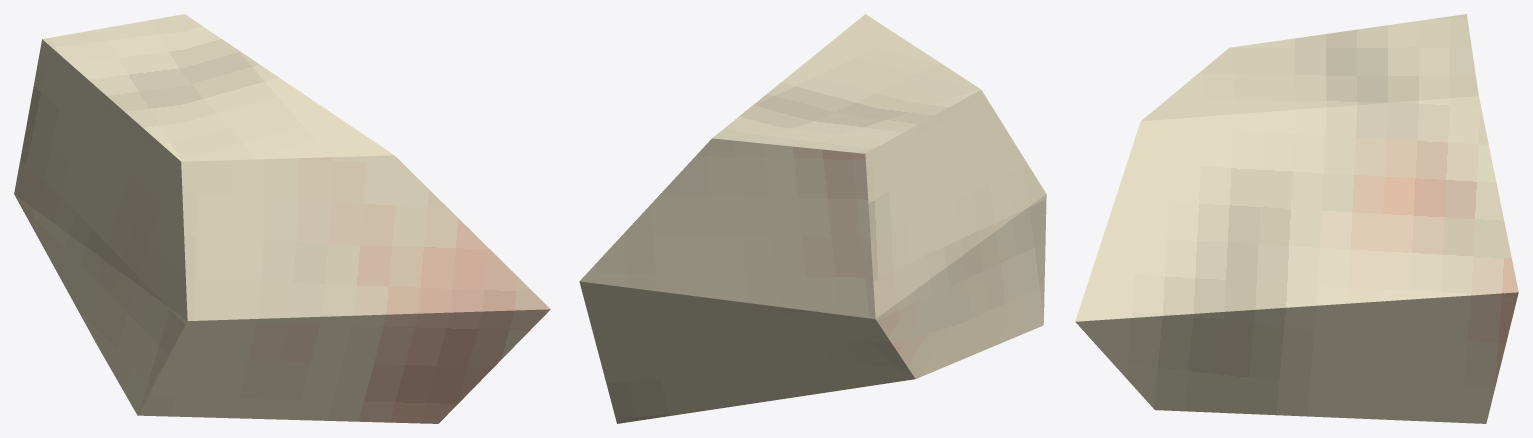
Rendered from skull_gib3.glb.
3 views of the same model, side by side, from view 1: azimuth 30°, elevation 25°; view 2: azimuth 150°, elevation 25°; view 3: azimuth 270°, elevation 25° (orthographic). The views are drawn at different scales.
Visible parts, largest first — view 1: Cube; view 2: Cube; view 3: Cube.
Part boxes in pixels (box(x1,y1,x2,y2)): Cube: box(14, 14, 550, 423); Cube: box(579, 14, 1046, 423); Cube: box(1075, 14, 1518, 423).
Size of the model in its own units: 0.3441 by 0.3148 by 0.4204.
1 material, 1 textured.
